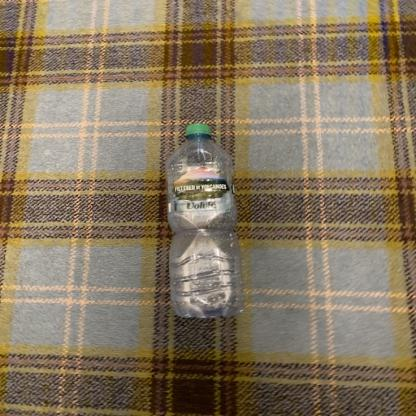trash: (164, 125, 242, 321)
